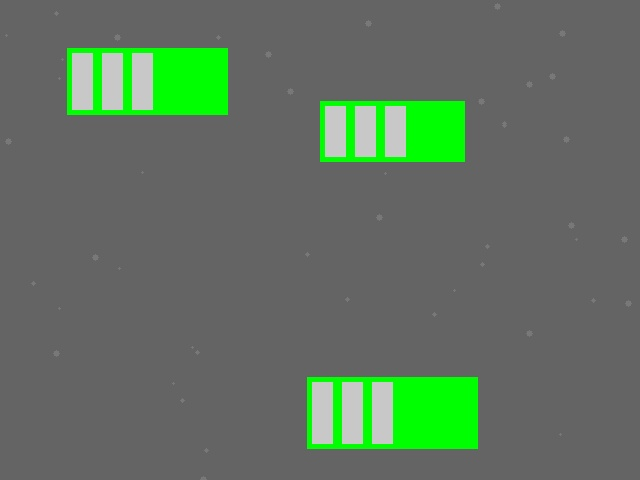bus: (307, 377, 477, 448), (67, 48, 227, 114), (320, 101, 464, 161)
